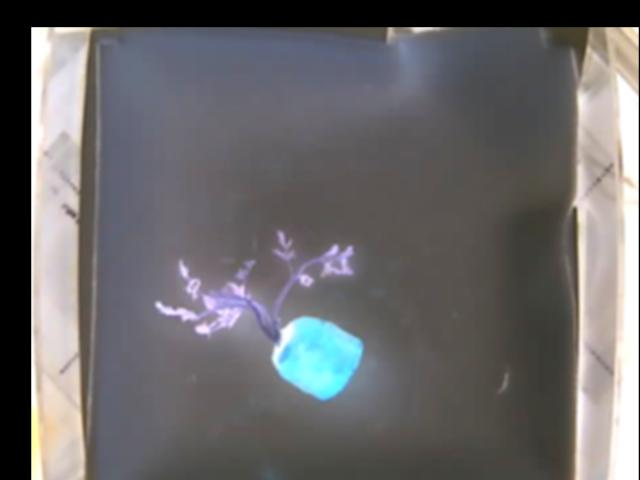Carrot: (155, 231, 361, 401)
